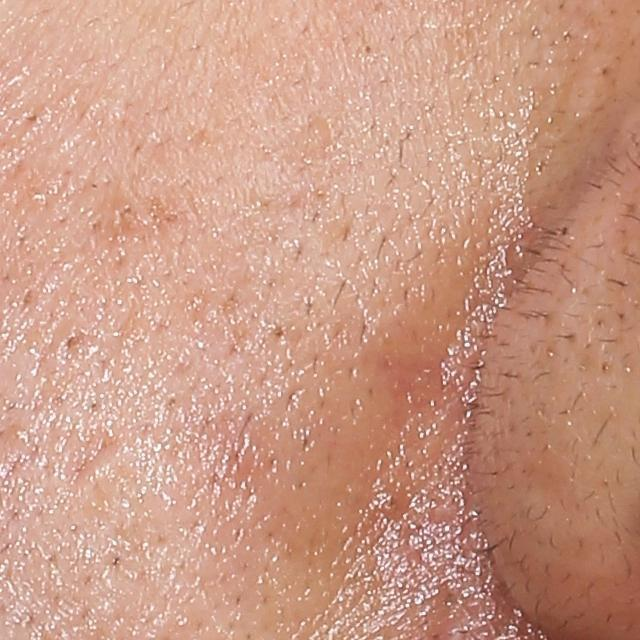atrophic_scar: (74, 426, 119, 482)
comedo: (357, 39, 378, 59)
